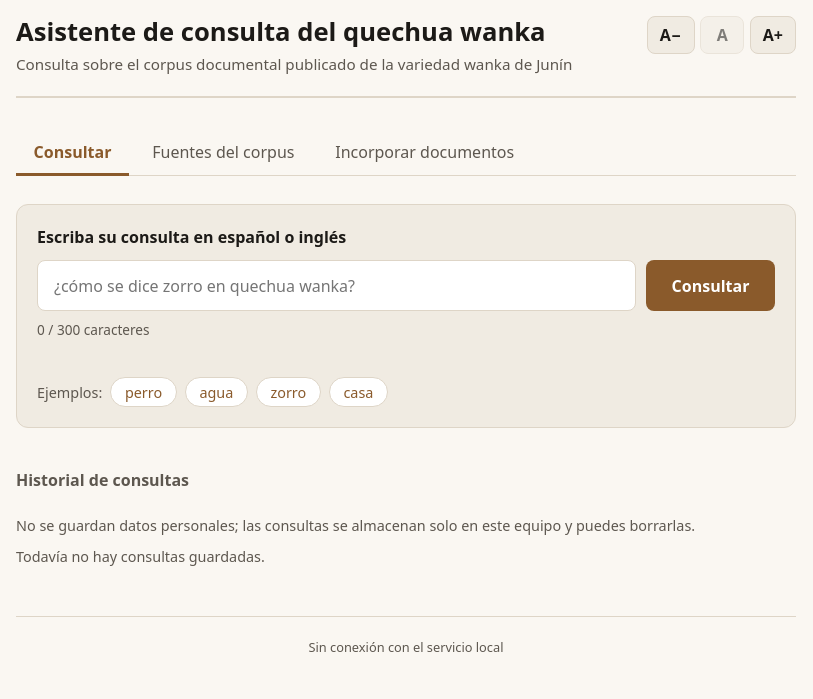
Test: estados de la consulta › muestra el error en español con Reintentar y reintenta
In the field labelled "Escriba su consulta en español o inglés": (337,286) [37,260,636,312], type "zorro"
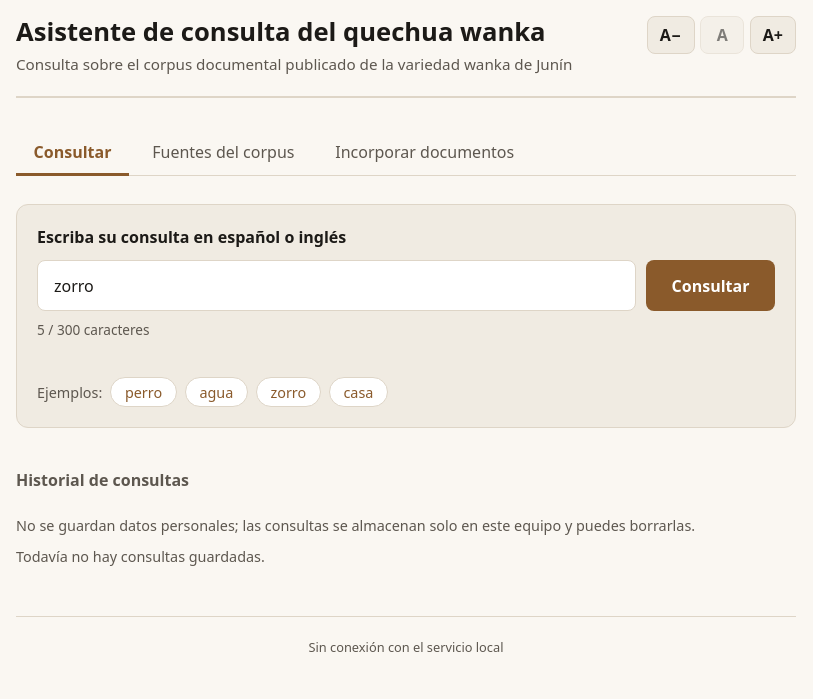
Click the button with class "caja__boton": (710,286) [646,260,775,312]
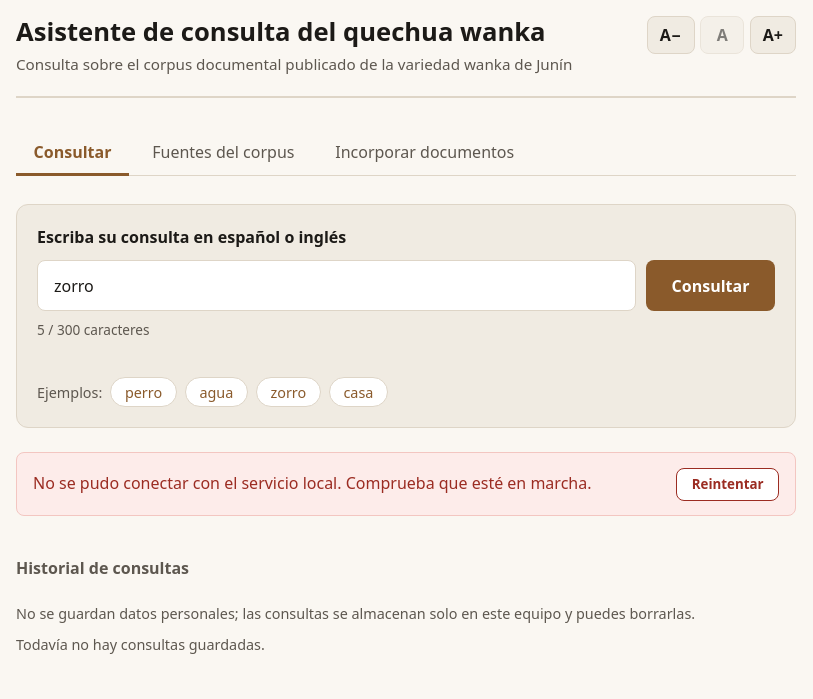
Expected: the text "No se pudo conectar con el servicio local" is shown, [33,472,592,494]
Click the button "Reintentar": (728,484) [676,468,779,501]
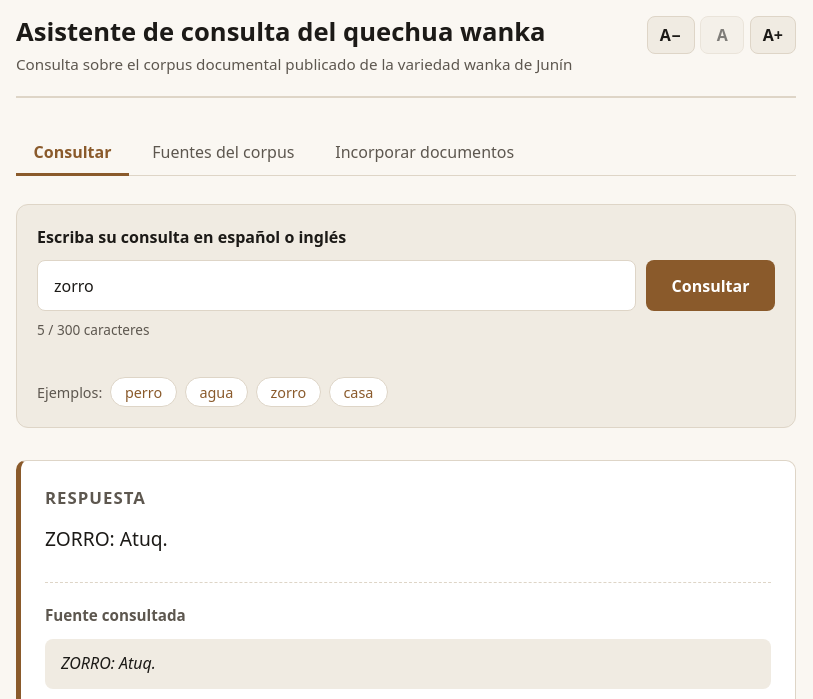
Expected: the heading "Fuente consultada" is shown, [45,605,186,625]
Expected: the button "Reintentar" is gone
